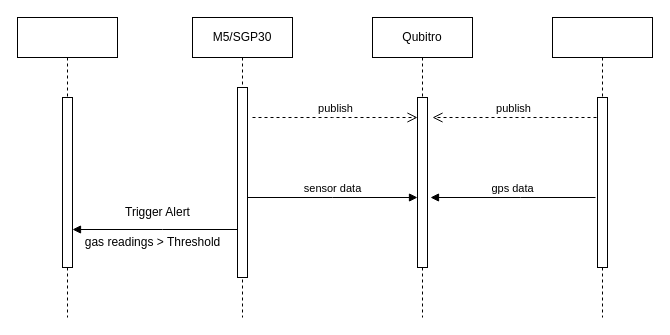
The diagram is 670 pixels wide and 335 high, and some of its shapes have lost their labels. Each missing label, with the box of its shape:
M5/AT6558: (552, 16, 652, 318)
User: (16, 16, 118, 318)
